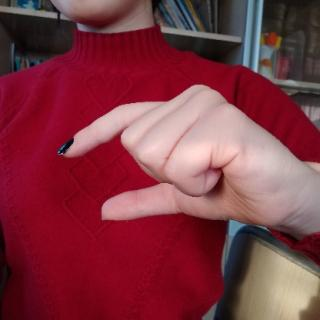DELL: (53, 79, 303, 242)
